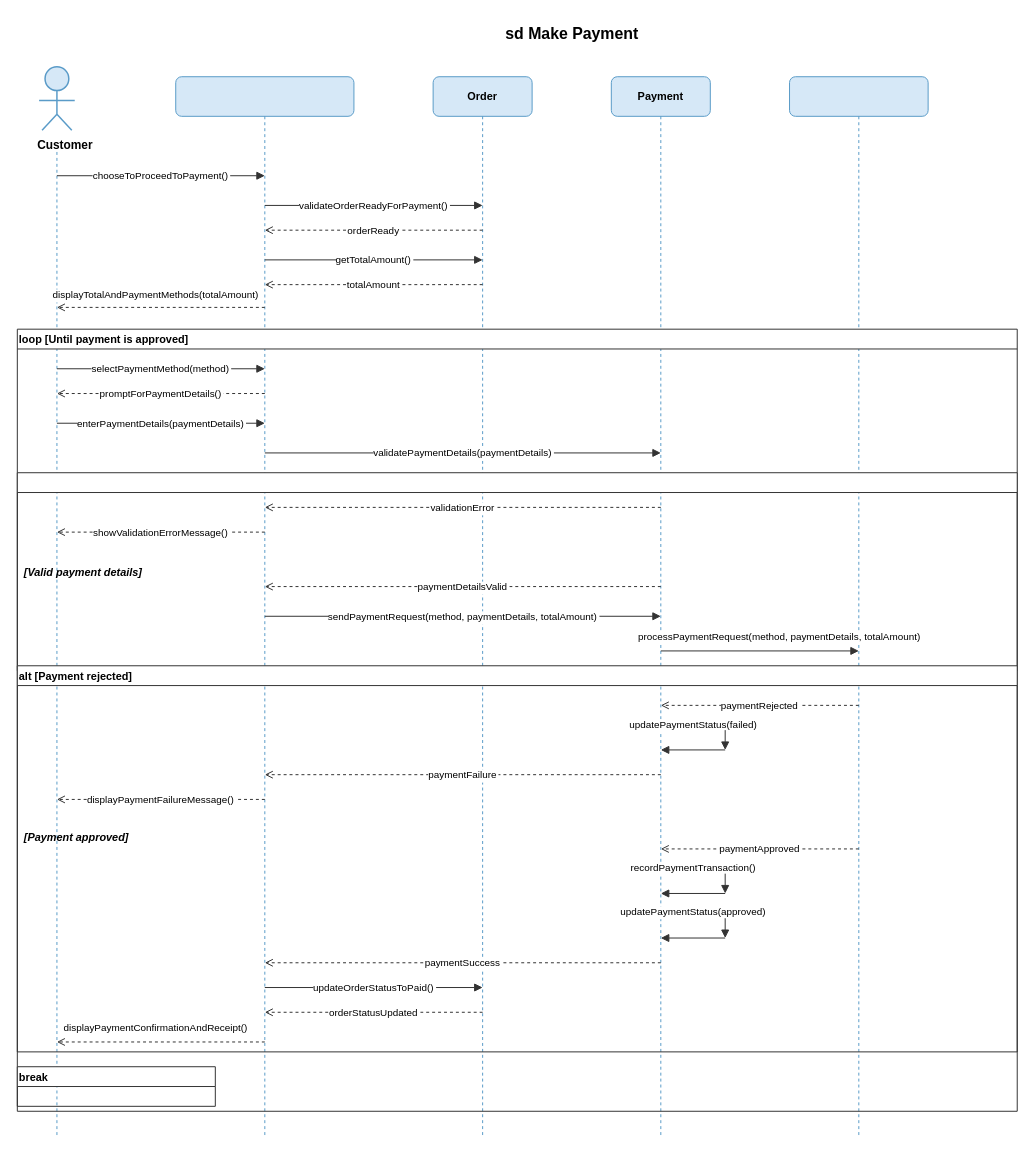
Some shapes in this 1035 by 1154 pixel diagram are drawn without their labels. The shapes that lost their labels are listed below. From the top down, each one's box as (x1, y1, x2, y2) in pixels, then its label:
(175, 76, 354, 116): Restaurant Ordering System
(789, 76, 928, 116): Payment Gateway
(16, 472, 1017, 671): alt [Invalid payment details]
